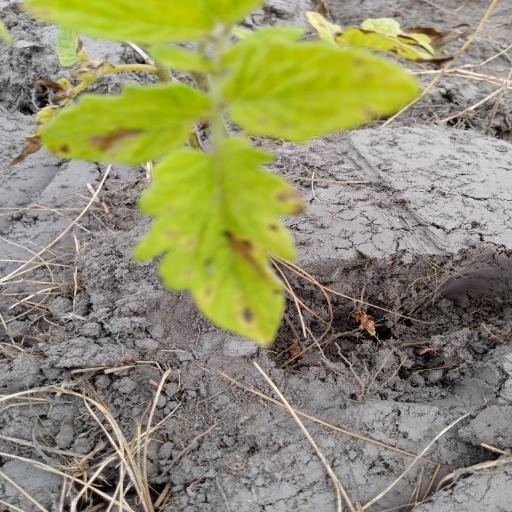Tomato_Brown_Spots: (142, 137, 310, 346), (219, 35, 430, 144), (38, 80, 218, 166)
